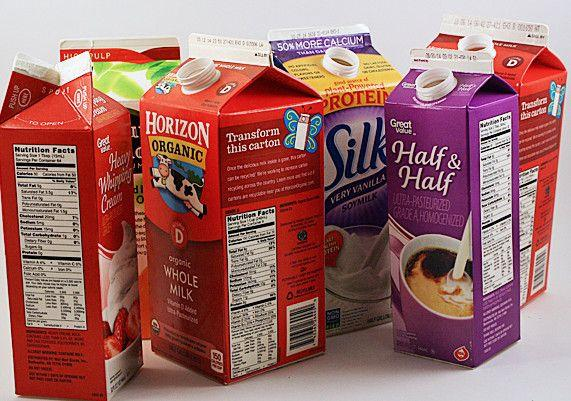cardboard: (137, 30, 392, 385), (388, 10, 571, 369), (5, 32, 155, 399)
